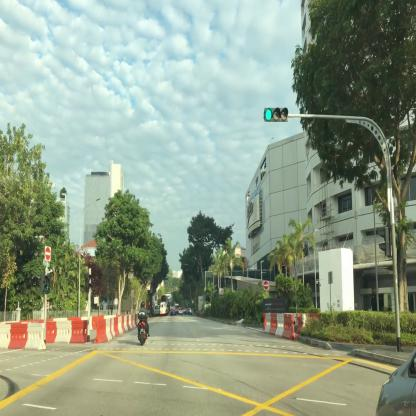green_traffic_light: (265, 107, 288, 121)
